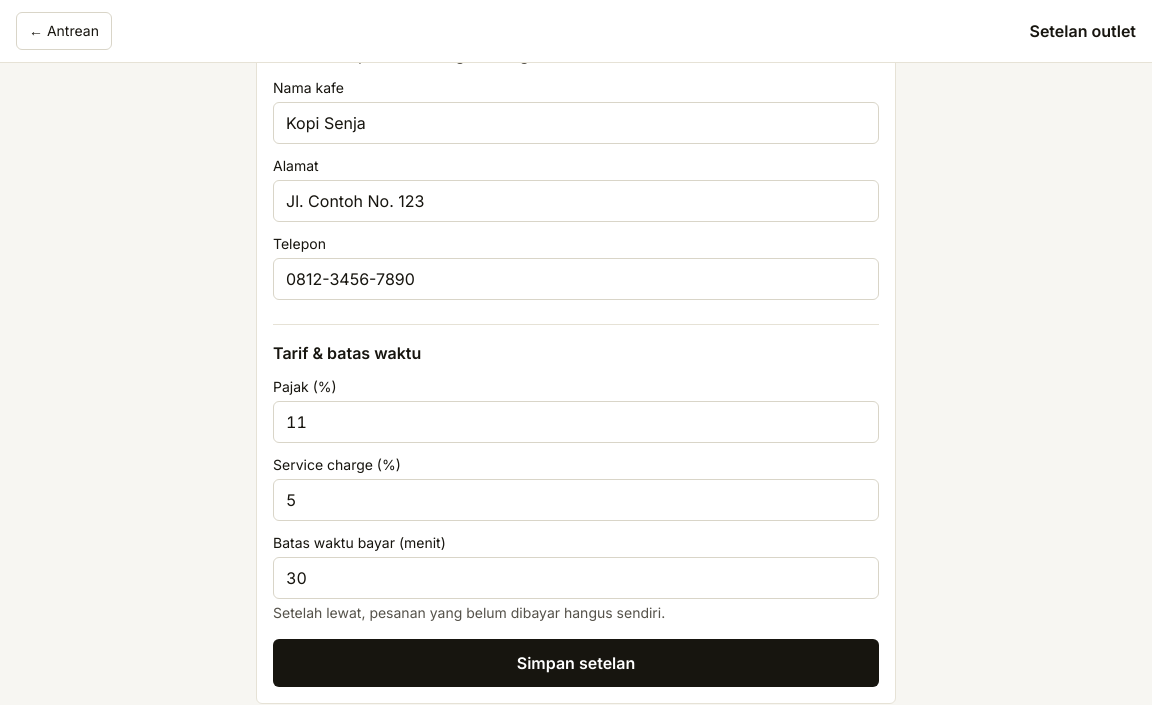
form tarif › penolakan server ditampilkan apa adanya, tidak diganti kalimat sendiri
(page scrolled)
Expected: the number field labelled "Pajak (%)" is shown, [273,401,879,443]
Click the button "Simpan setelan" at {"x": 576, "y": 663}, box [273,639,879,687]
(page scrolled)
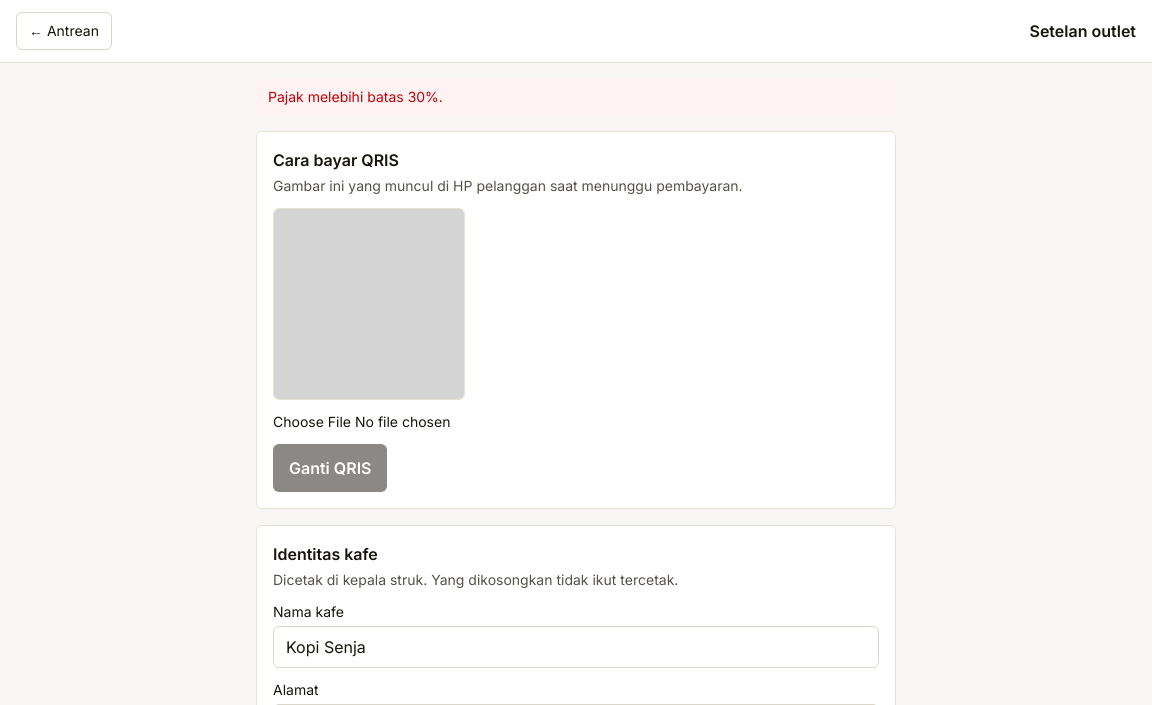
Expected: the text "Pajak melebihi batas 30%." is shown, [256,79,896,115]
